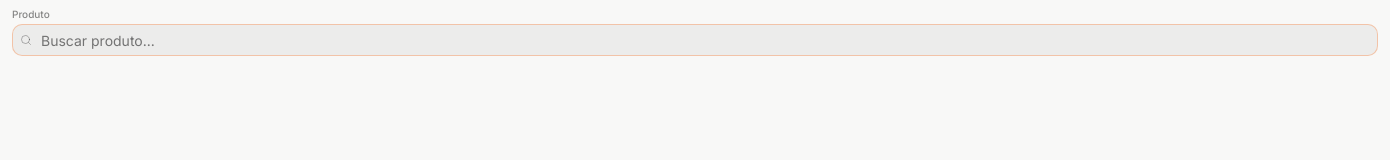
it: seletor de produto das trocas › EAN comum não chama a consulta da etiqueta nova
In the field with placeholder "Buscar produto...": (695, 40) [12,24,1378,56], type "7891234567895"
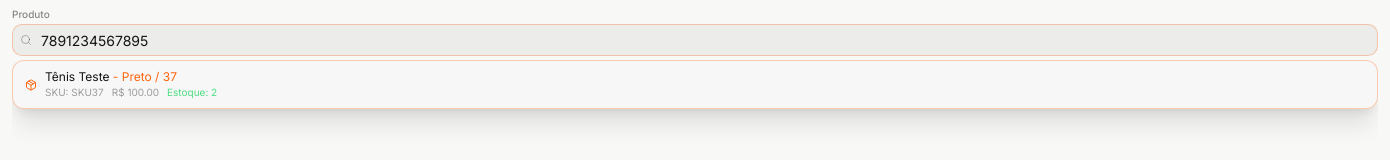
Now the button "Tênis Teste - Preto / 37 SKU: SKU37 R$ 100.00 Estoque: 2" is shown, box [13,61,1377,108]
